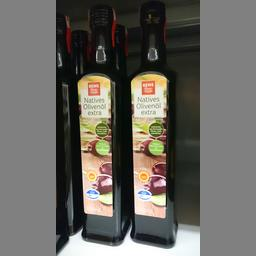oil: (77, 8, 128, 245), (129, 6, 178, 247)
